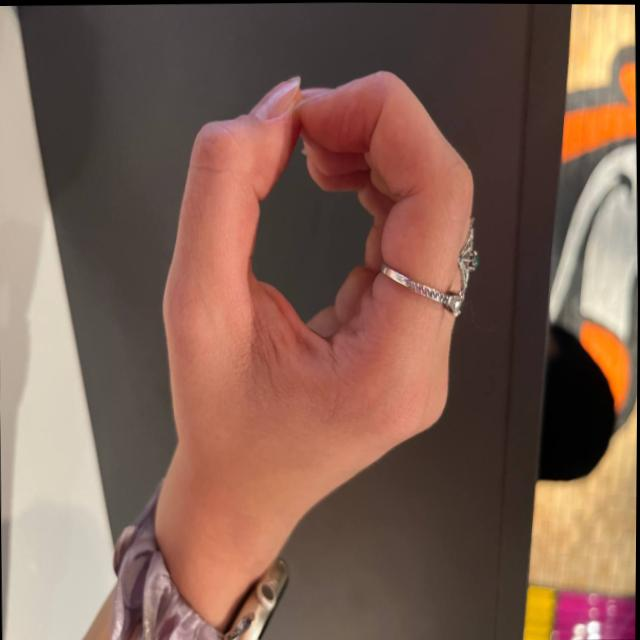e: (125, 51, 522, 560)
